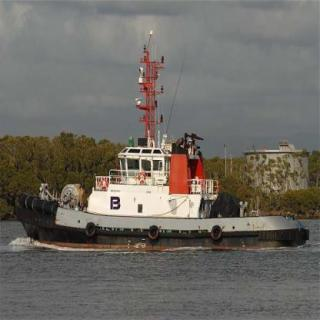Tug Boat: (16, 27, 304, 249)
